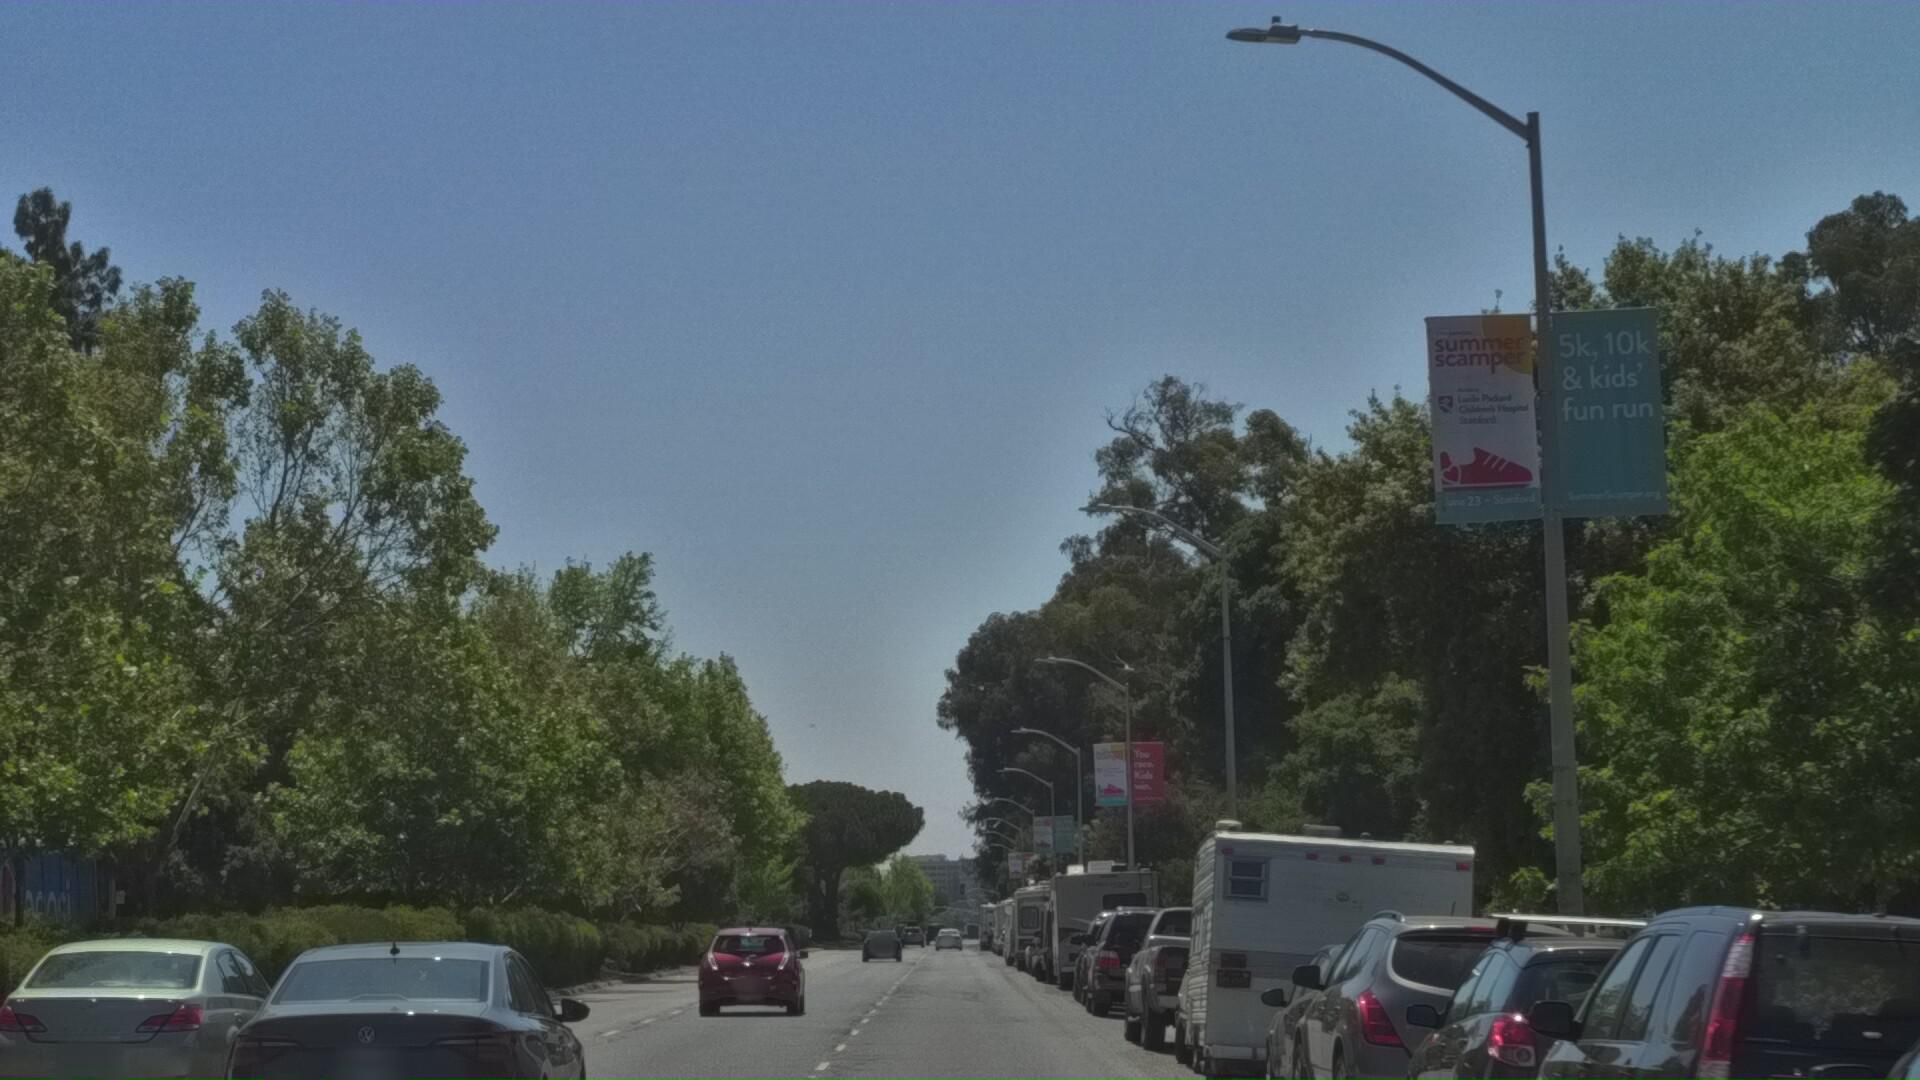car: (1470, 886, 1920, 1080), (1367, 907, 1855, 1080), (1279, 909, 1647, 1080), (214, 971, 621, 1080), (1671, 928, 1920, 1080), (1255, 952, 1522, 1080), (0, 980, 334, 1080), (1164, 932, 1389, 1080), (1116, 920, 1321, 1080), (1083, 932, 1209, 1052), (705, 959, 823, 1065)
other_vehicle: (1164, 820, 1514, 1080)
truck: (0, 847, 115, 982)
